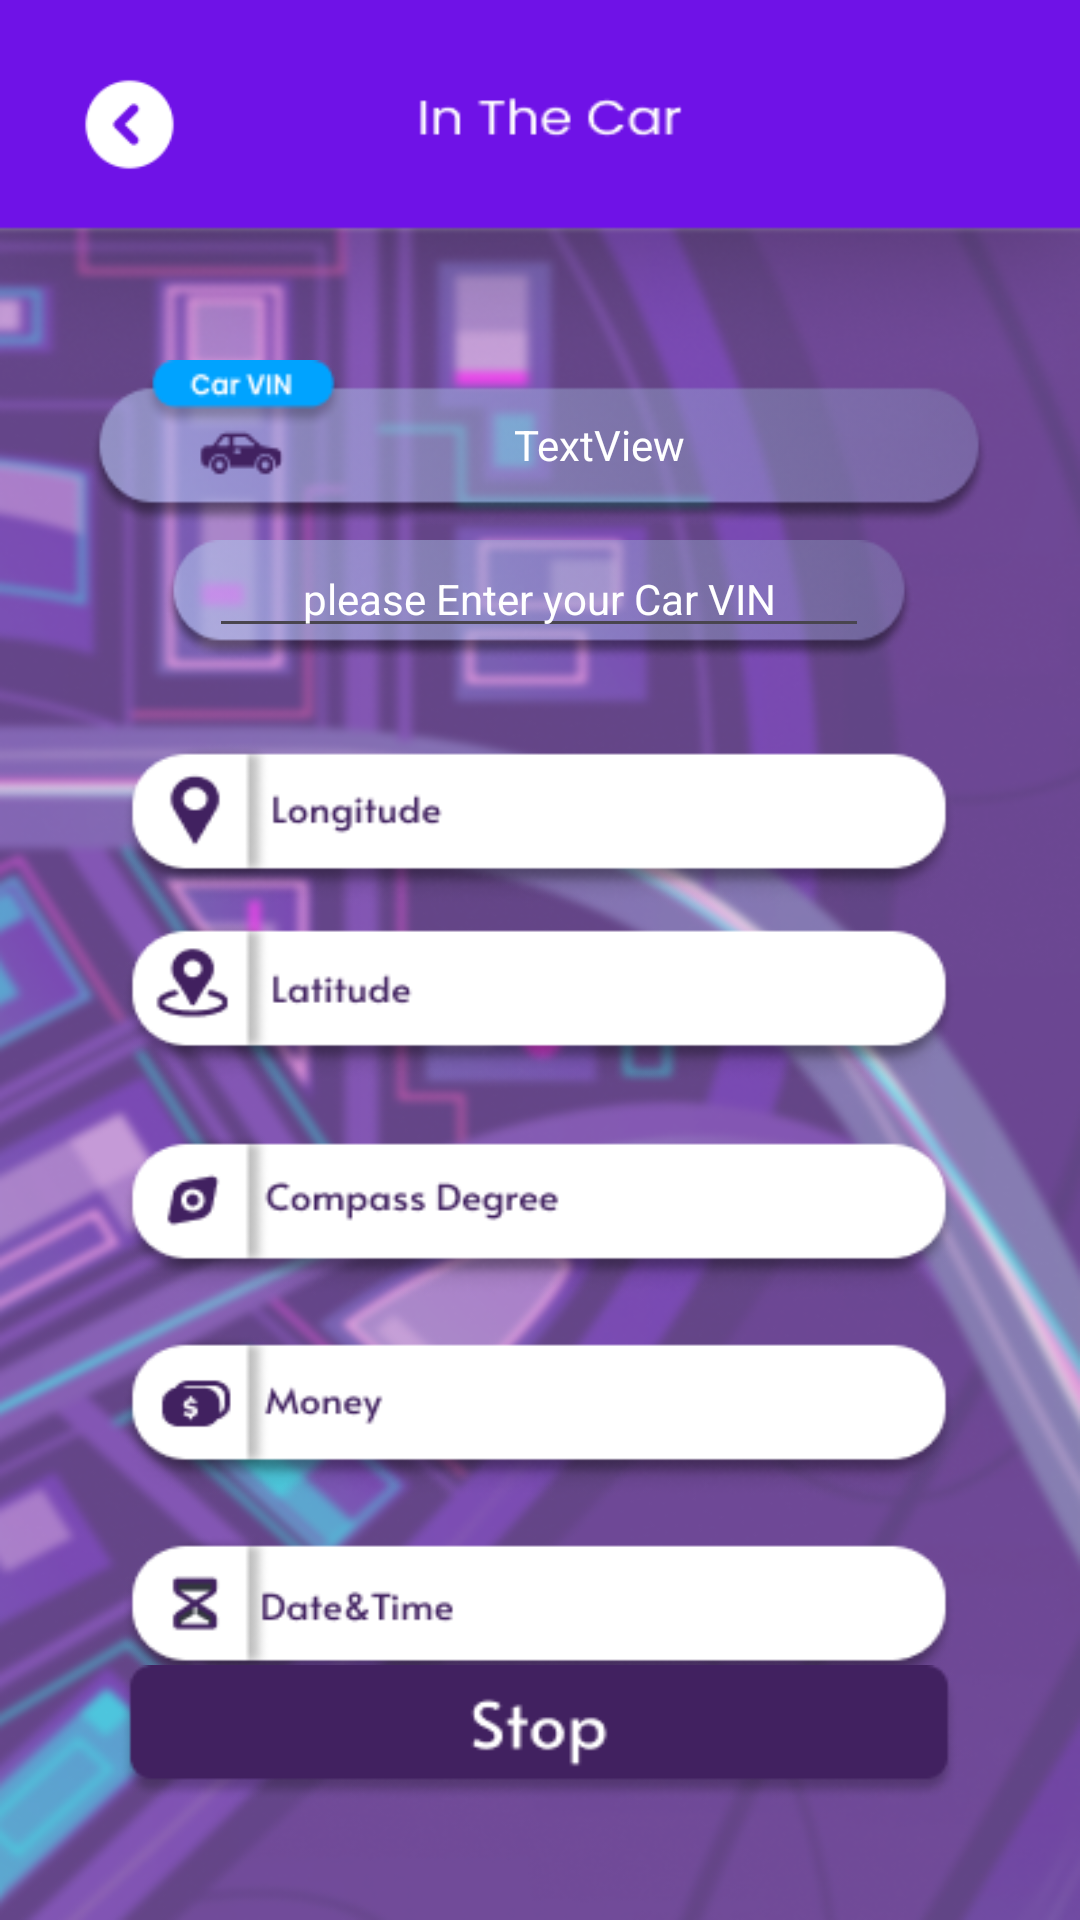

Icon bounding boxes for this 1080x1920 phone screenshot, format (x1, y1, x2, y2):
back: (85, 80, 174, 169)
